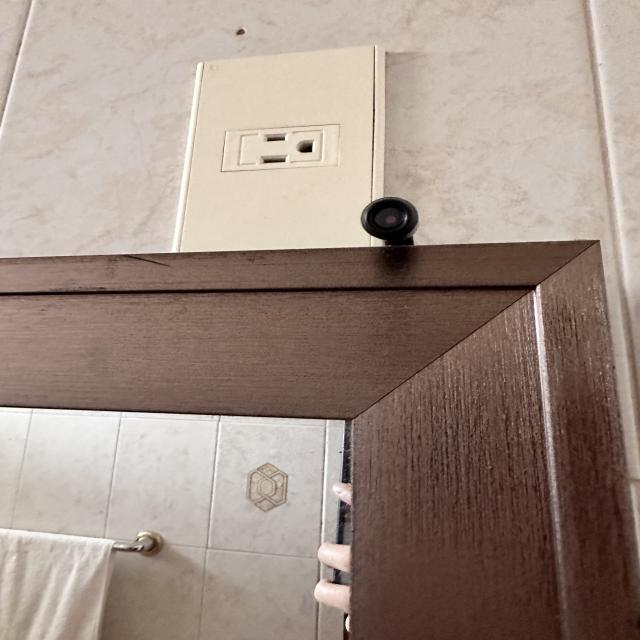hidden camera: (361, 197, 418, 241)
